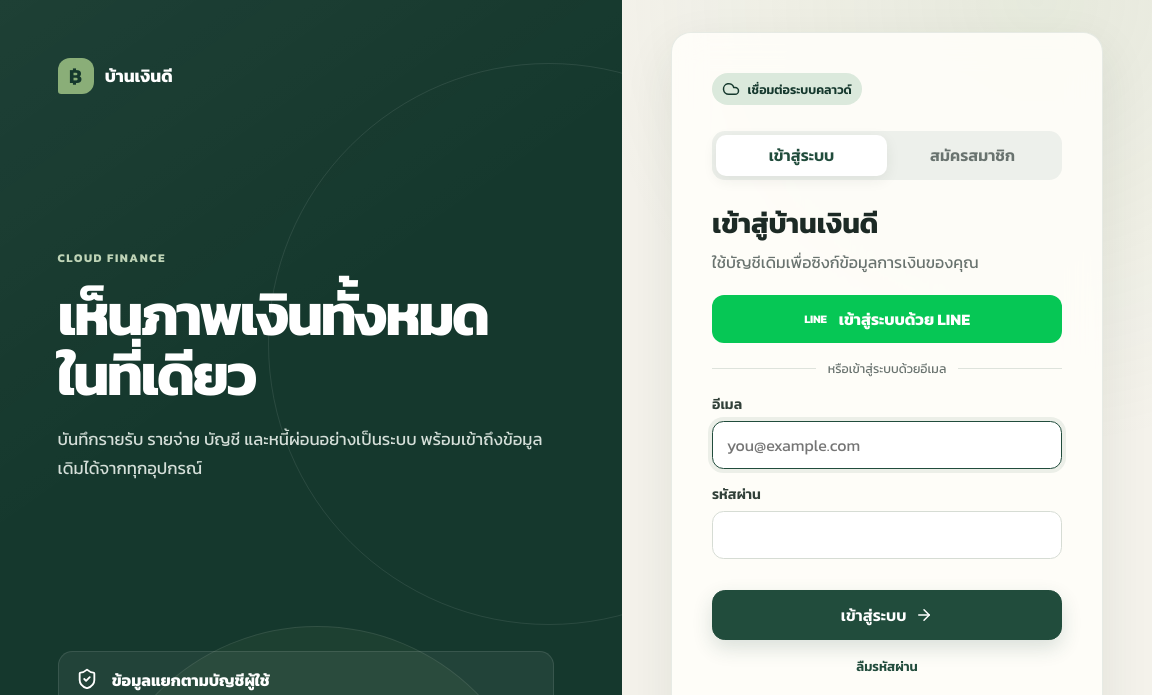
Test case: SignInPage › shows a Thai error when Supabase rejects sign in
Type "min@example.test" into the field labelled "อีเมล" at [887, 445], box top-left (712, 421), bottom-right (1062, 469)
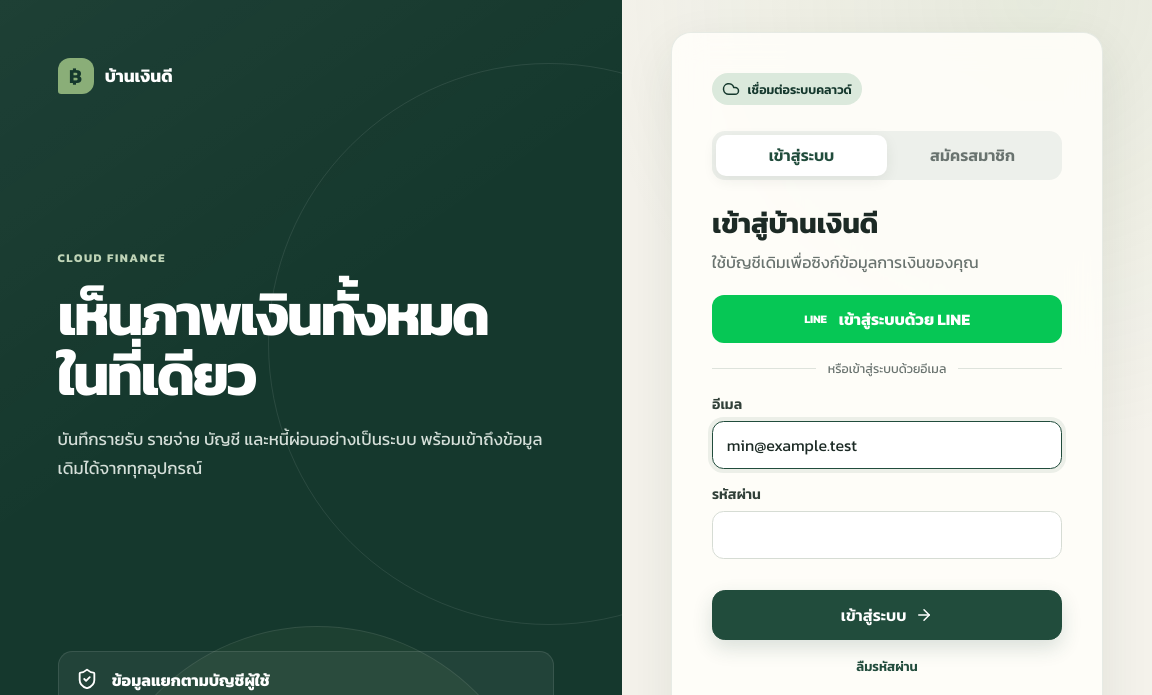
Type "wrong-pass" into the password field labelled "รหัสผ่าน" at [887, 535], box top-left (712, 511), bottom-right (1062, 559)
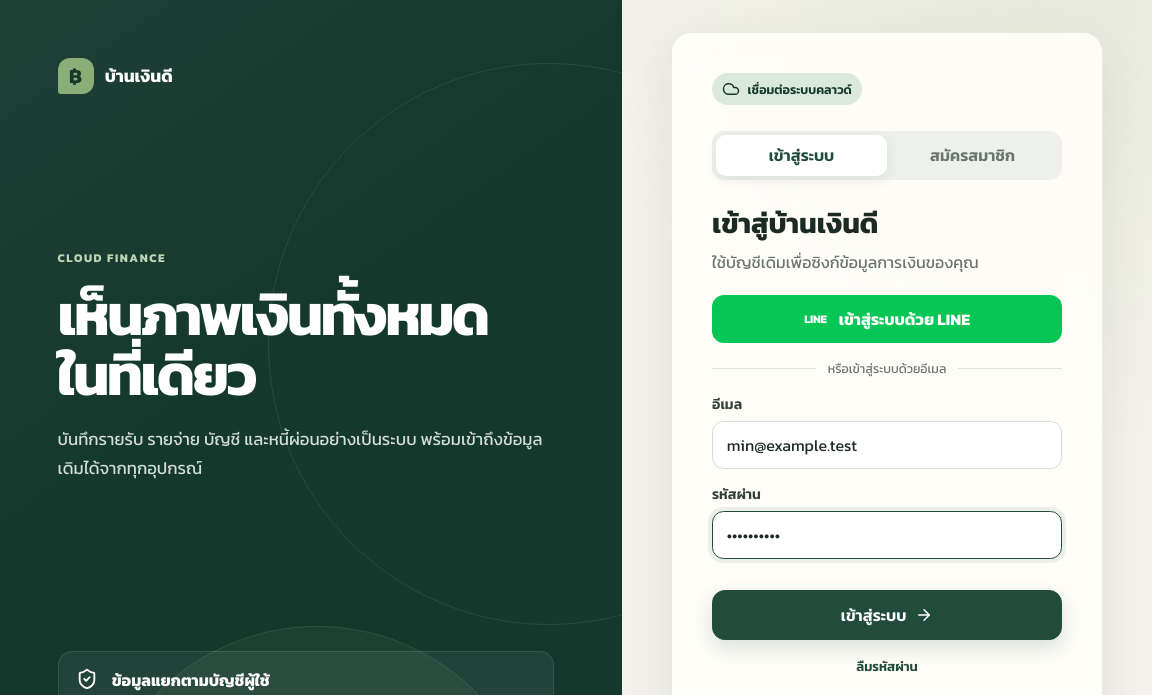
Click the 2nd button "เข้าสู่ระบบ" at [887, 615], box top-left (712, 590), bottom-right (1062, 640)
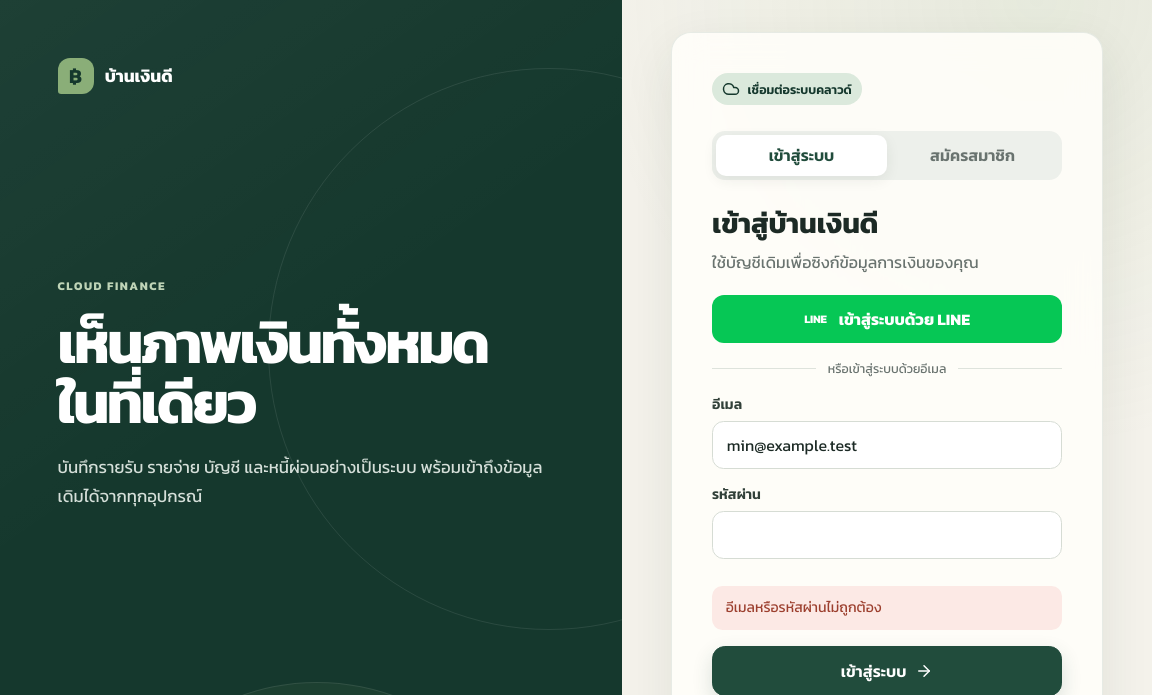
Check: the message reads "อีเมลหรือรหัสผ่านไม่ถูกต้อง", box top-left (726, 597), bottom-right (882, 618)
Check: the password field labelled "รหัสผ่าน" is empty, box top-left (712, 511), bottom-right (1062, 559)
